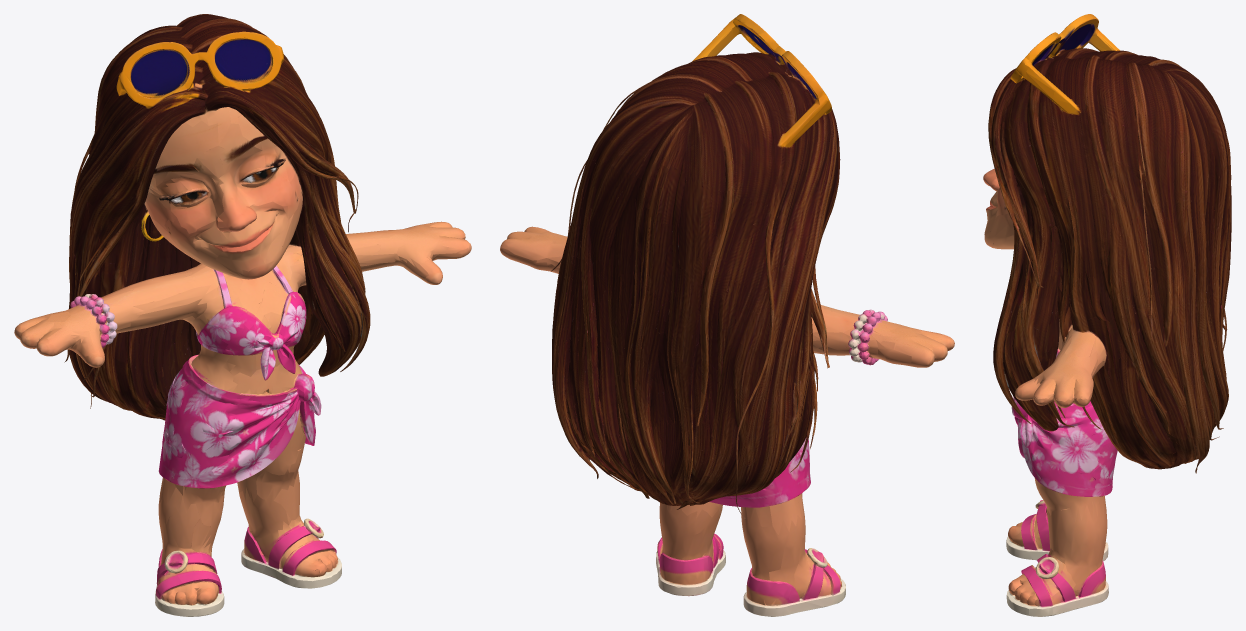
File: karla_src.glb
3 renders of one model, left to right at view 1: azimuth 30°, elevation 25°; view 2: azimuth 150°, elevation 25°; view 3: azimuth 270°, elevation 25°, orthographic. The views are drawn at different scales.
Visible parts, largest first — view 1: Mesh_0; view 2: Mesh_0; view 3: Mesh_0.
Boxes of the visible parts, x1,y1,x2,y2 form: Mesh_0: [14, 14, 471, 616]; Mesh_0: [500, 14, 954, 616]; Mesh_0: [983, 14, 1231, 616].
Size of the model in its own units: 1.57 by 1.9 by 0.7969.
1 material, 1 textured.
